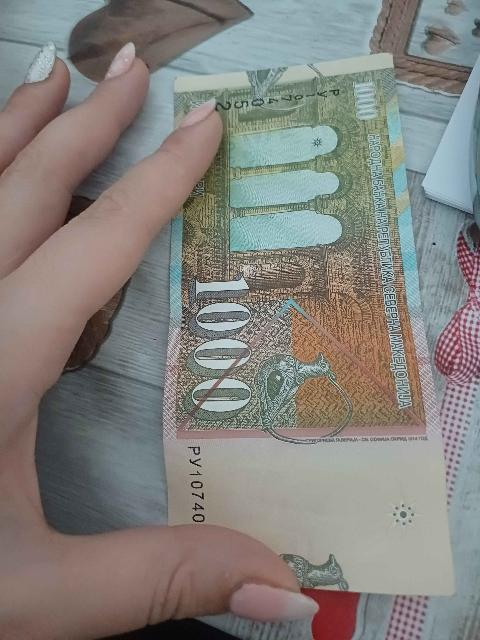1000_note: (164, 55, 453, 593)
